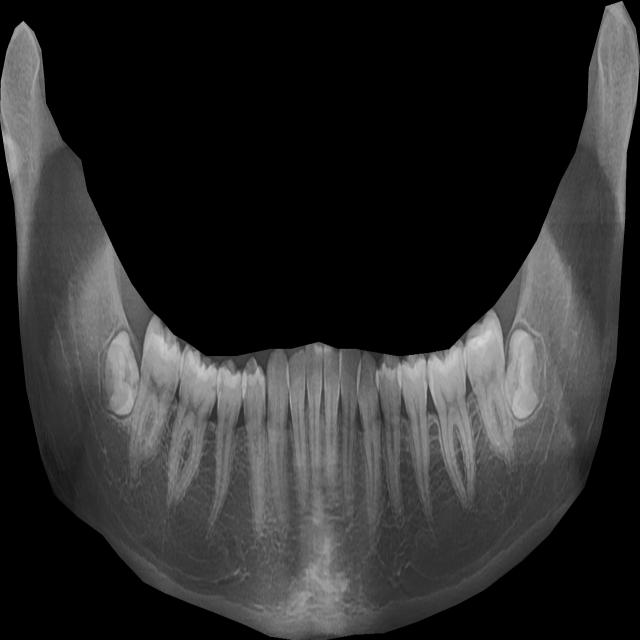mandibula: (0, 1, 640, 640)
